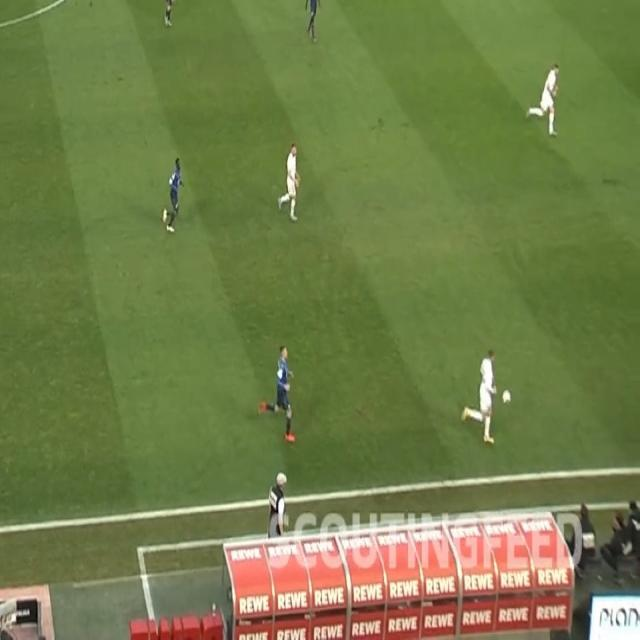ball: (502, 388, 512, 406)
